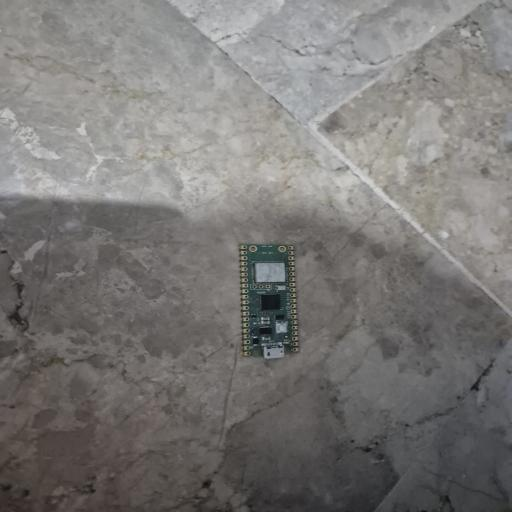raspberry-pi-pico-w: (239, 244, 299, 359)
